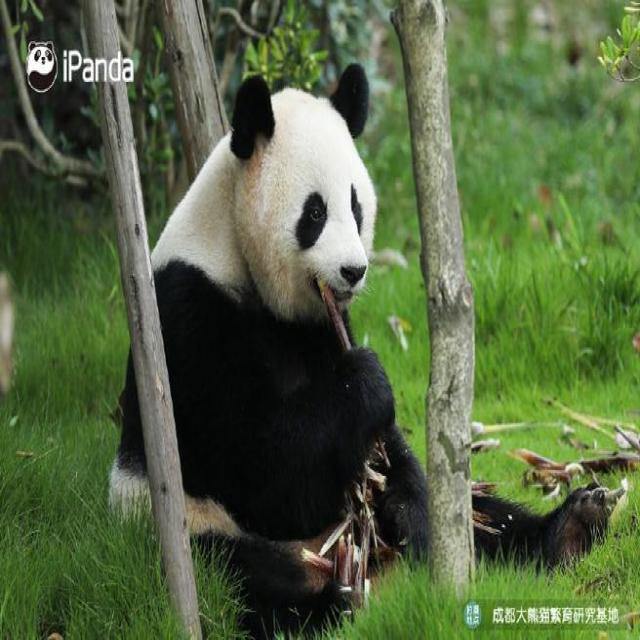panda: (122, 69, 438, 634)
